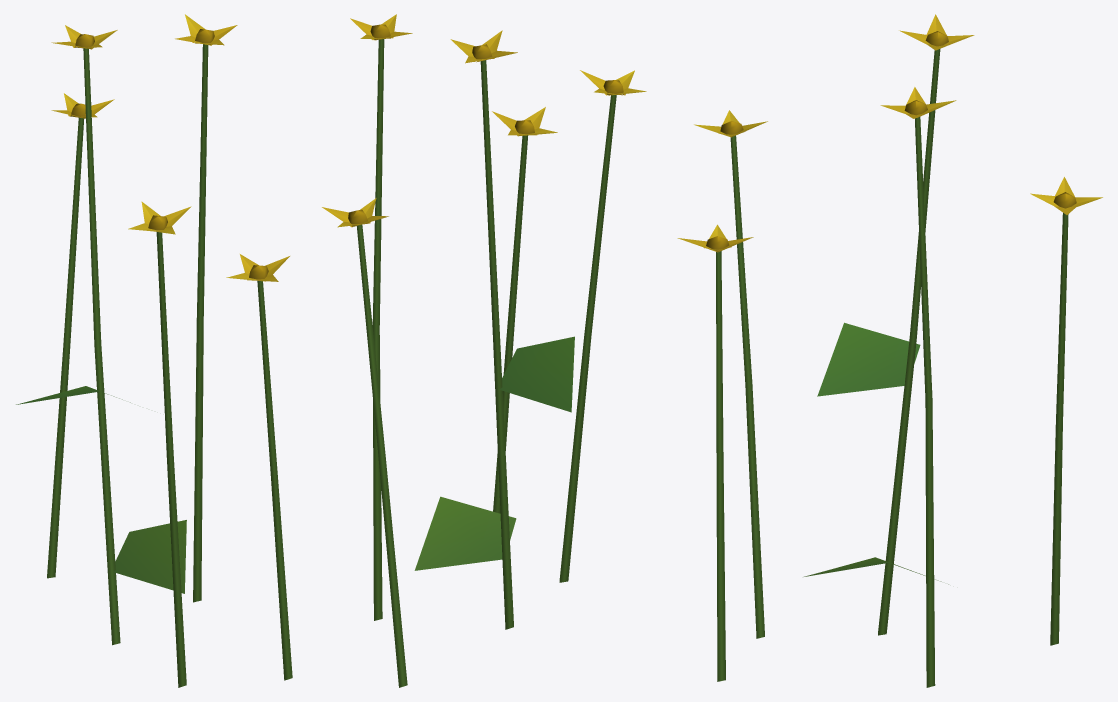
The model's file is flower-buttercup-b.lod2.glb.
3 views of the same model, side by side, from view 1: azimuth 30°, elevation 25°; view 2: azimuth 150°, elevation 25°; view 3: azimuth 270°, elevation 25° (orthographic). The views are drawn at different scales.
Parts seen in each view (by area): view 1: flower-buttercup-b.lod2; view 2: flower-buttercup-b.lod2; view 3: flower-buttercup-b.lod2.
Boxes of the visible parts, bbox=[...] form: flower-buttercup-b.lod2: bbox=[16, 14, 292, 687]; flower-buttercup-b.lod2: bbox=[322, 14, 646, 687]; flower-buttercup-b.lod2: bbox=[677, 14, 1102, 687].
Bounding box in the file's own units: 0.1264 × 0.3238 × 0.2082.
